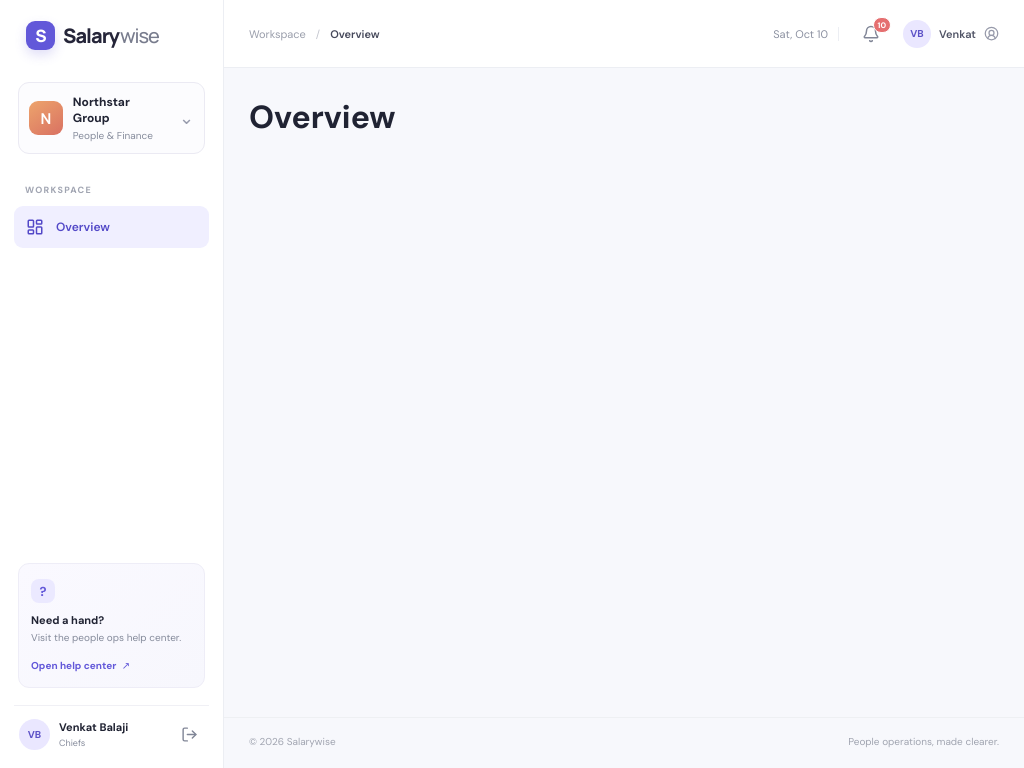
Test: dashboard profile, help, and notifications › navigates to the same profile from the top-right profile control
This screenshot has width=1024, height=768.
Step 1. Click the link with class "topbar-profile" → (951, 34), box x1=903 y1=20 x2=999 y2=48
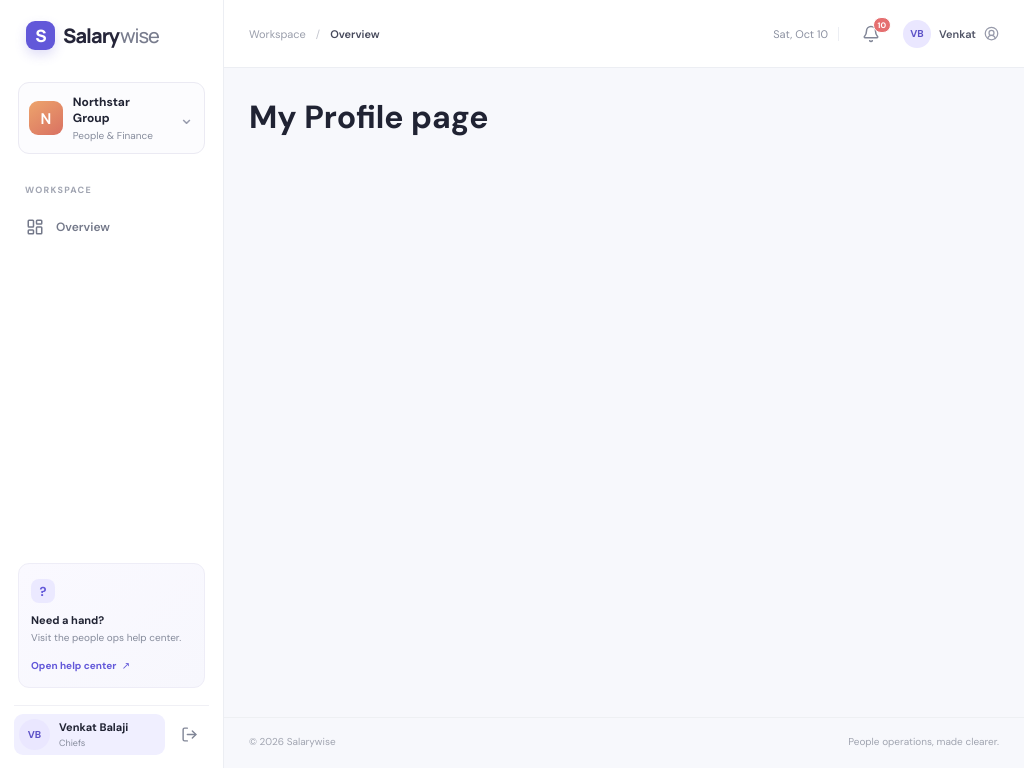
Expected: the heading "My Profile page" is shown, x1=249 y1=96 x2=488 y2=138
